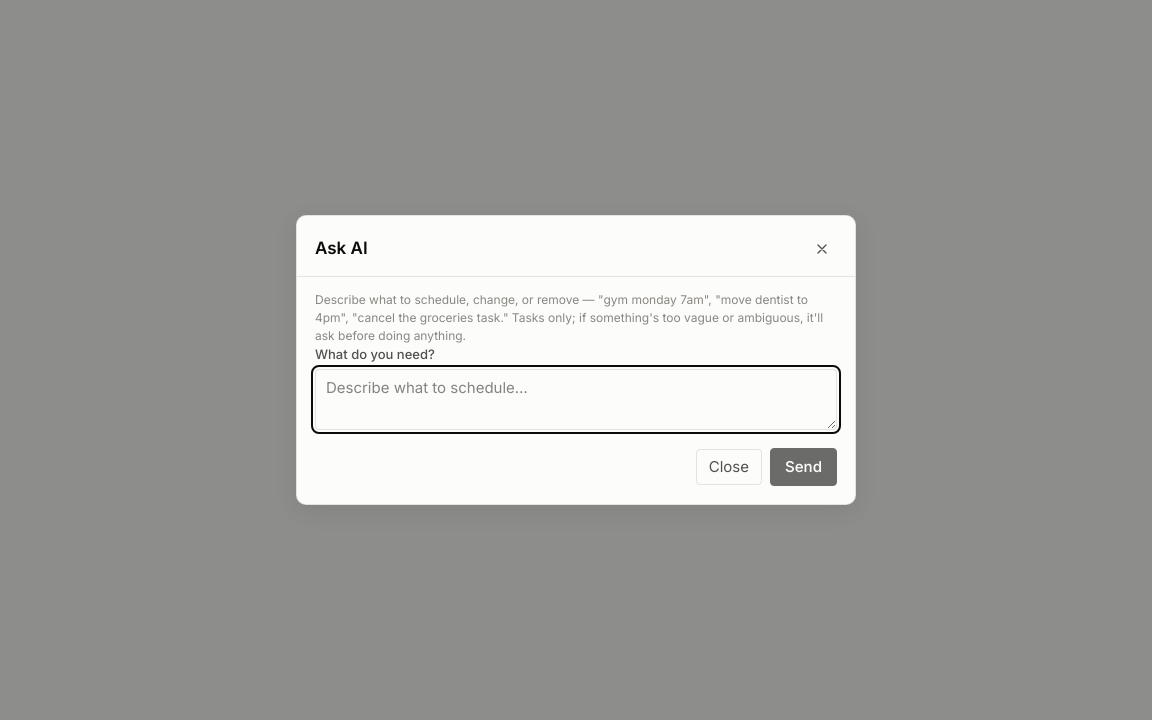
Scenario: AiChatModal › an "ask" reply shows the question and does nothing else
Step 1. Type "team meeting" into the text box with placeholder "Describe what to schedule…" → (576, 399), box [315,368,837,430]
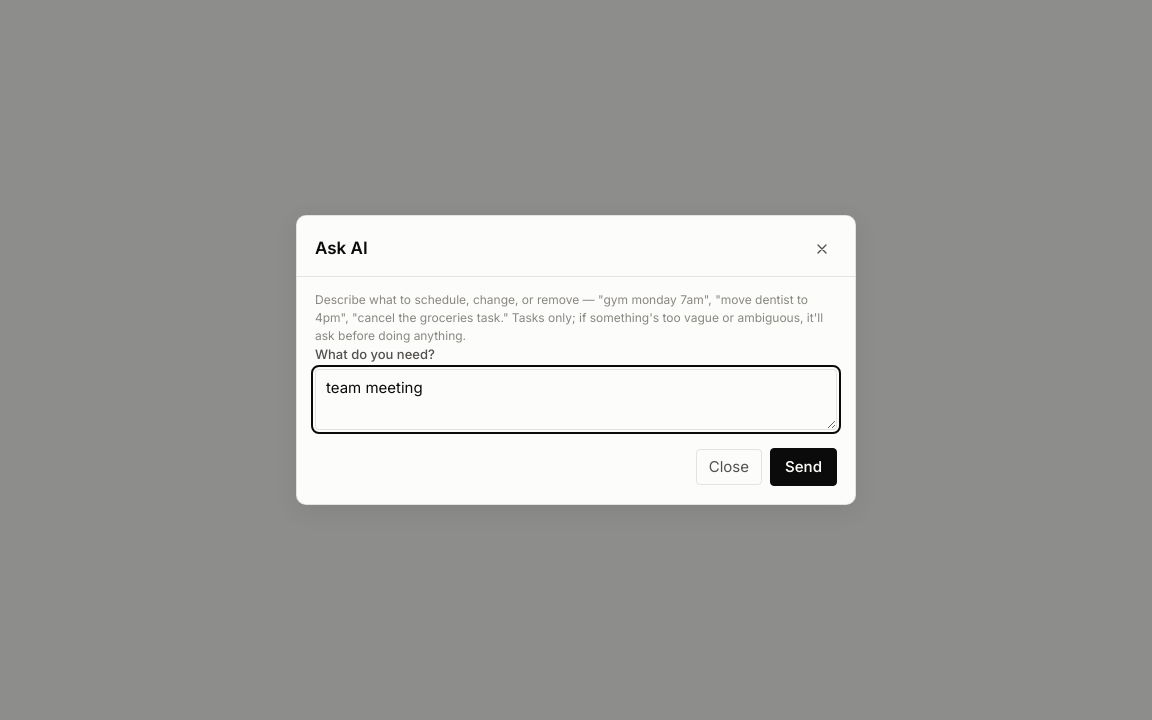
Step 2. Click the button "Send" → (804, 467), box [770,448,837,486]
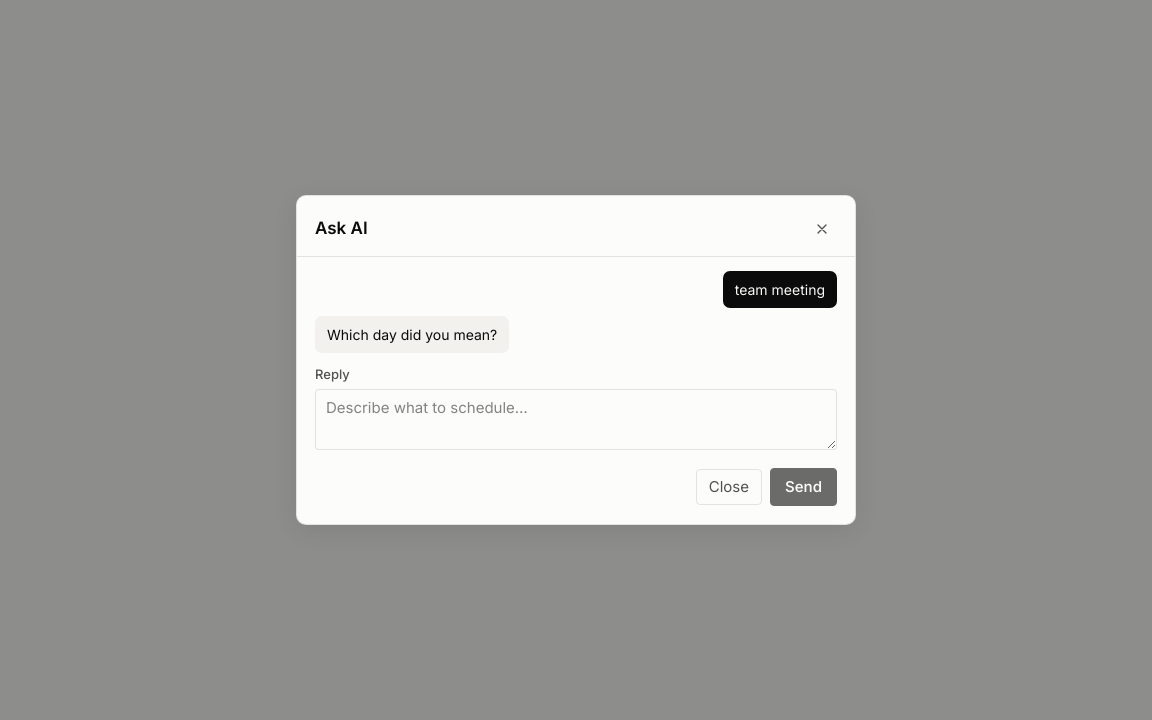
Check: the text "Which day did you mean?" is shown, box [315,316,509,353]
